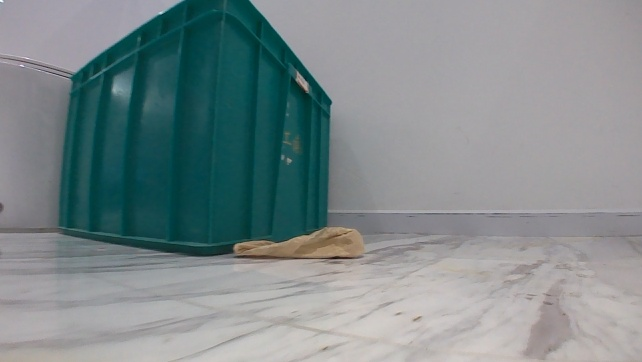socks: (230, 223, 367, 263)
toilet: (0, 50, 75, 237)
